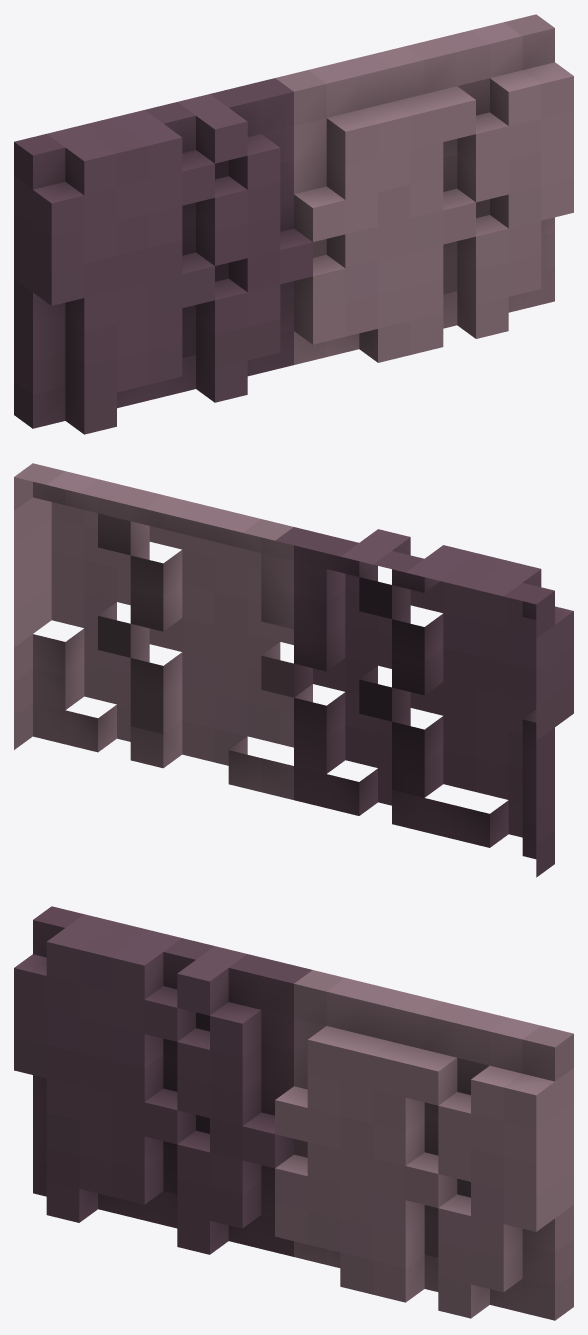
File: ashlar_plain_0.glb
3 renders of one model, top to bottom at view 1: azimuth 30°, elevation 25°; view 2: azimuth 150°, elevation 25°; view 3: azimuth 330°, elevation 25°, orthographic.
Parts seen in each view (by area): view 1: ashlar_plain_0; view 2: ashlar_plain_0; view 3: ashlar_plain_0.
Boxes of the visible parts, x1,y1,x2,y2 form: ashlar_plain_0: (14, 14, 573, 434); ashlar_plain_0: (14, 463, 573, 877); ashlar_plain_0: (14, 906, 573, 1320).
Size of the model in its own units: 1 by 0.5 by 0.125.
